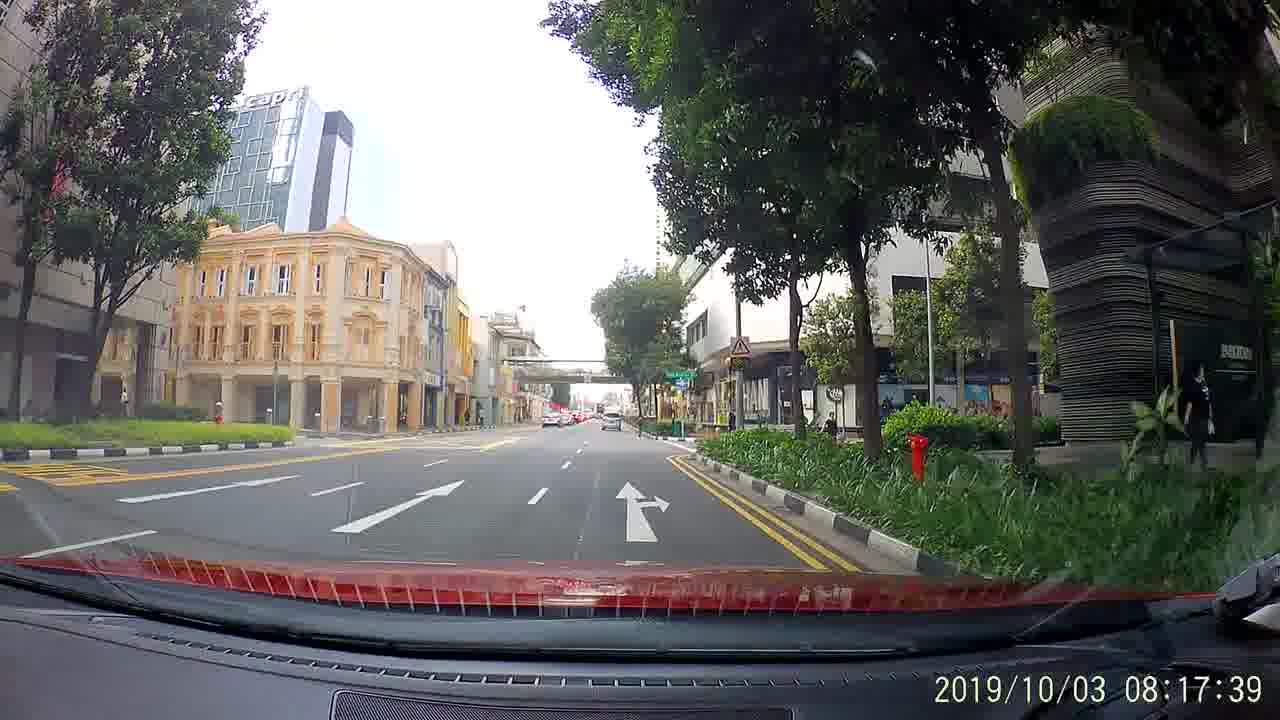car: (536, 406, 565, 432), (598, 408, 622, 432)
